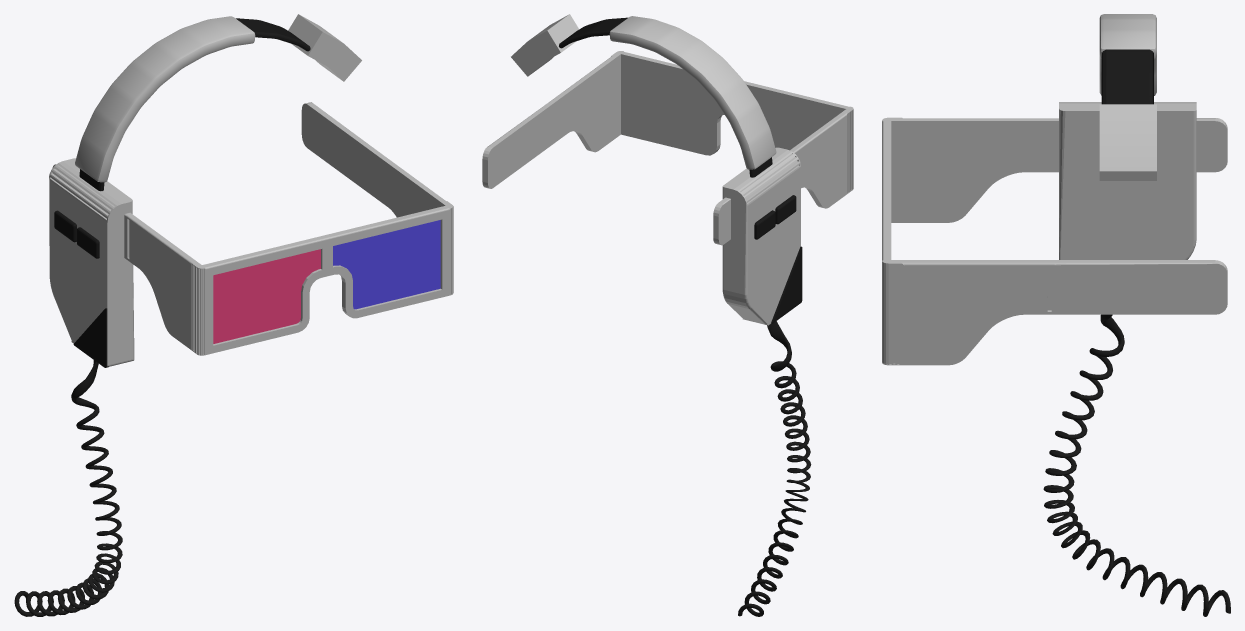
Rendered from SpaceBrille.fbx.
The picture shows the model from 3 angles, left to right: view 1: azimuth 30°, elevation 25°; view 2: azimuth 150°, elevation 25°; view 3: azimuth 270°, elevation 25°; orthographic projection. The views are drawn at different scales.
Parts seen in each view (by area): view 1: Circle.003; view 2: Circle.003; view 3: Circle.003.
Boxes of the visible parts, left/top/right/bottom form: Circle.003: left=14, top=14, right=453, bottom=616; Circle.003: left=482, top=14, right=853, bottom=616; Circle.003: left=882, top=14, right=1230, bottom=616.
Bounding box in the file's own units: 35.4 × 65.32 × 30.68.
